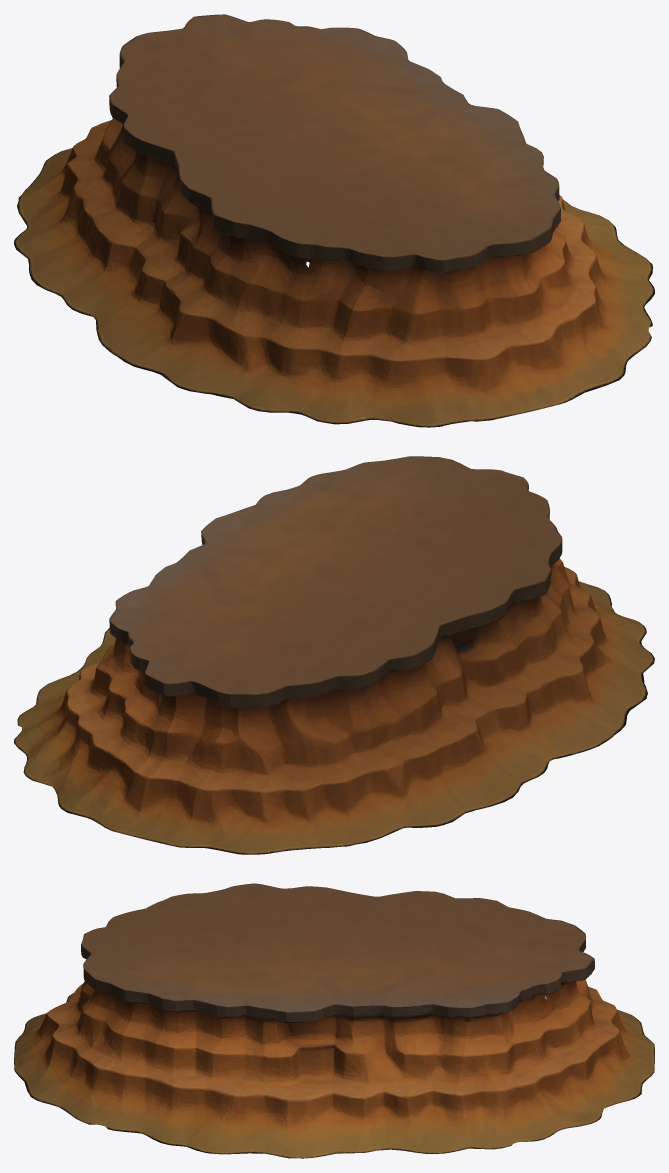
3 views of the same model, one above another, from view 1: azimuth 30°, elevation 25°; view 2: azimuth 150°, elevation 25°; view 3: azimuth 270°, elevation 25° (orthographic). The views are drawn at different scales.
Parts seen in each view (by area): view 1: world; view 2: world; view 3: world.
Part boxes in pixels (x1,y1,x2,y2): world: [14, 14, 654, 427]; world: [14, 456, 654, 854]; world: [14, 883, 654, 1158].
Size of the model in its own units: 19.44 by 4.81 by 26.
Materials: 1 (1 with a texture image).
